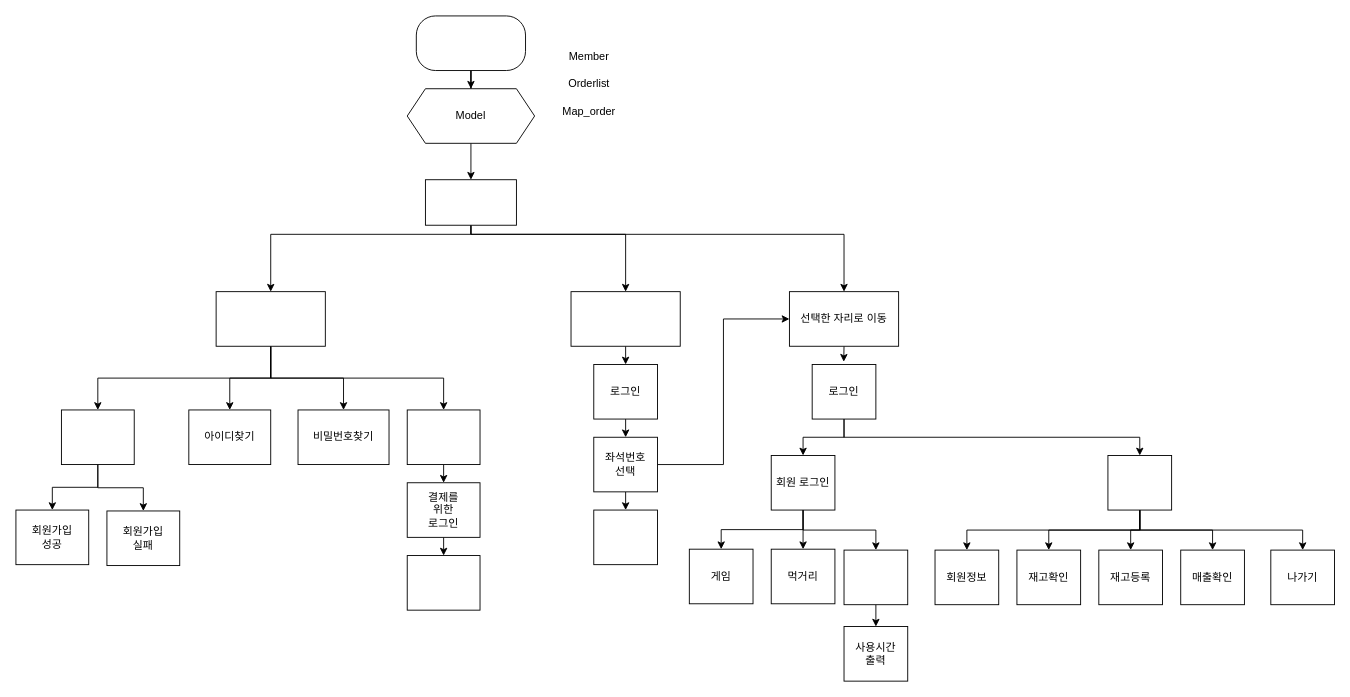
This 1350x697 diagram has some shape labels left out. Here are the shapes that lost their labels. From the top down, the box of each, then its label:
(415, 15, 526, 71): Start
(425, 179, 516, 225): 좌석현황
(215, 291, 325, 346): 회원
(570, 291, 680, 346): 좌석선택
(61, 409, 134, 465): 회원가입
(406, 409, 480, 465): 시간결제
(1107, 455, 1172, 510): 관리자 로그인
(593, 509, 657, 565): 로그인 성공/실패
(406, 555, 480, 610): 시간충전
(843, 549, 908, 605): 로그아웃
